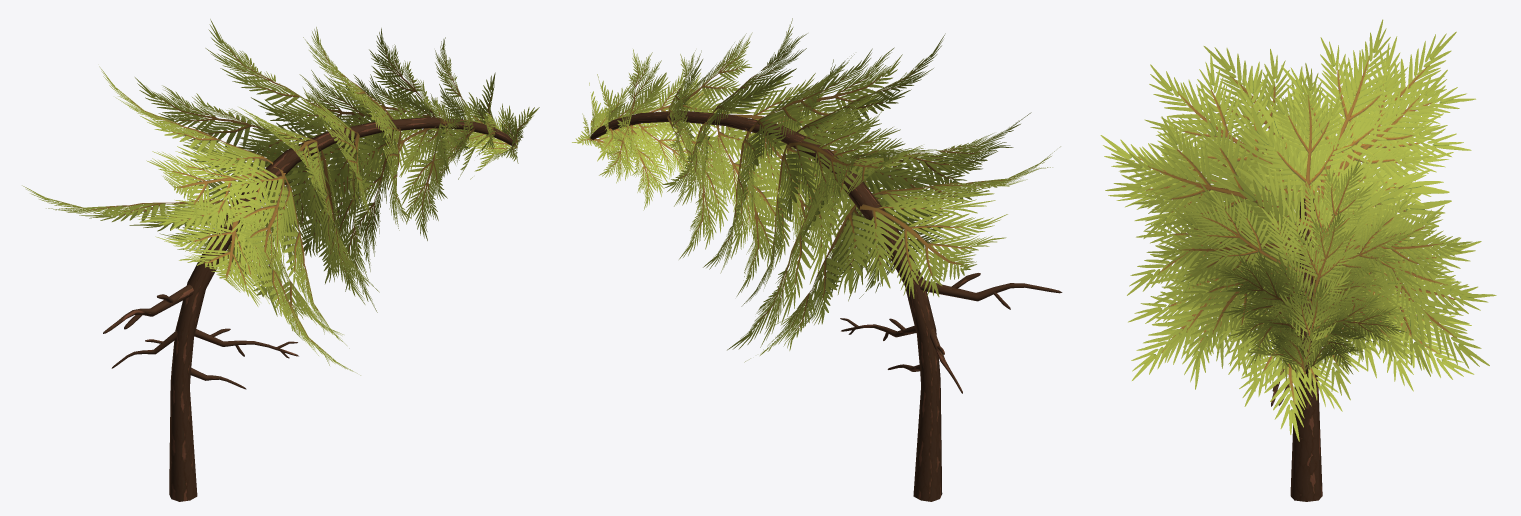
File: PineTree_4.glb
The picture shows the model from 3 angles, left to right: view 1: azimuth 30°, elevation 25°; view 2: azimuth 150°, elevation 25°; view 3: azimuth 270°, elevation 25°; orthographic projection. The views are drawn at different scales.
Visible parts, largest first — view 1: PineTree_4; view 2: PineTree_4; view 3: PineTree_4.
Part boxes in pixels (bbox=[...]): PineTree_4: bbox=[22, 19, 539, 501]; PineTree_4: bbox=[572, 18, 1062, 501]; PineTree_4: bbox=[1100, 19, 1496, 501].
Size of the model in its own units: 4.84 by 4.48 by 3.25.
2 materials, 2 textured.
